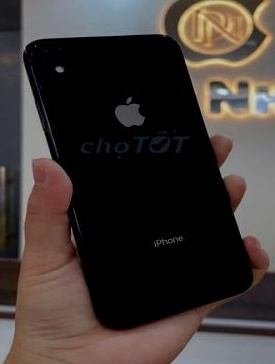scratch: (70, 83, 80, 93), (42, 47, 50, 53)
